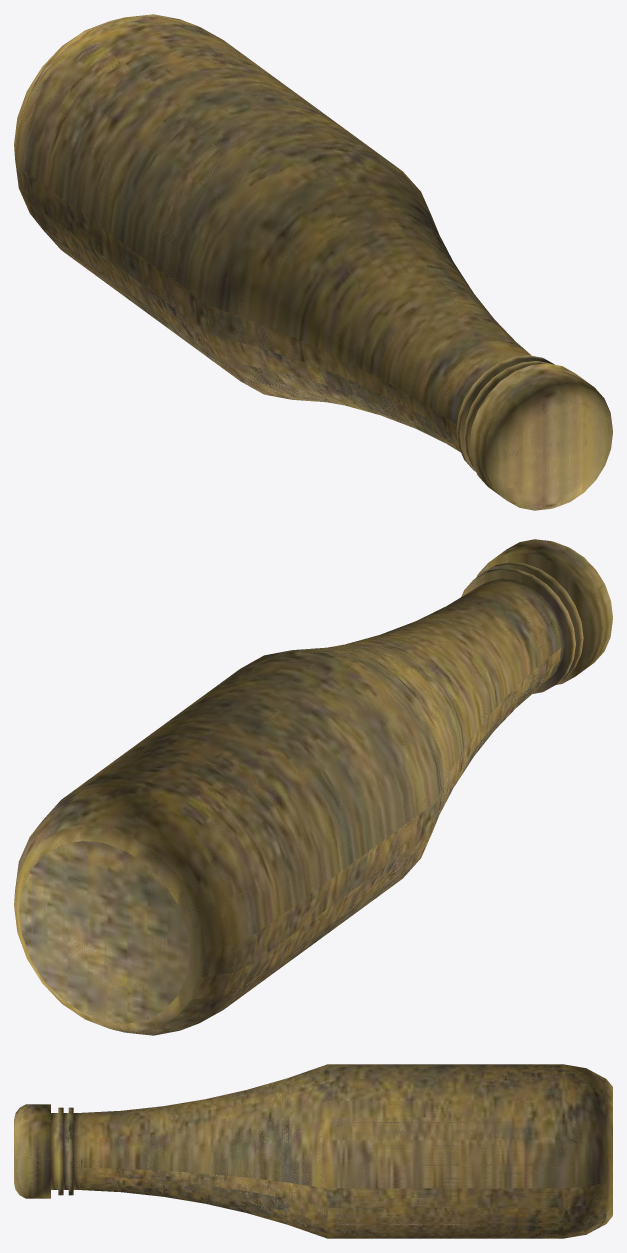
File: model_align.obj
3 views of the same model, one above another, from view 1: azimuth 30°, elevation 25°; view 2: azimuth 150°, elevation 25°; view 3: azimuth 270°, elevation 25° (orthographic). The views are drawn at different scales.
Parts seen in each view (by area): view 1: mesh1_mesh1-geometry; view 2: mesh1_mesh1-geometry; view 3: mesh1_mesh1-geometry.
Part boxes in pixels (x1,y1,x2,y2): mesh1_mesh1-geometry: [14, 14, 612, 510]; mesh1_mesh1-geometry: [14, 539, 612, 1035]; mesh1_mesh1-geometry: [14, 1064, 612, 1238].
Size of the model in its own units: 0.0796 by 0.0796 by 0.2725.
